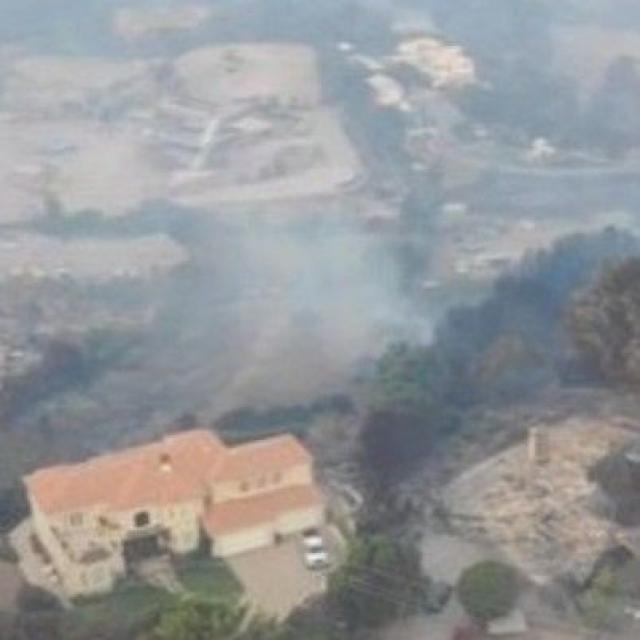Smoke: (10, 130, 454, 402)
